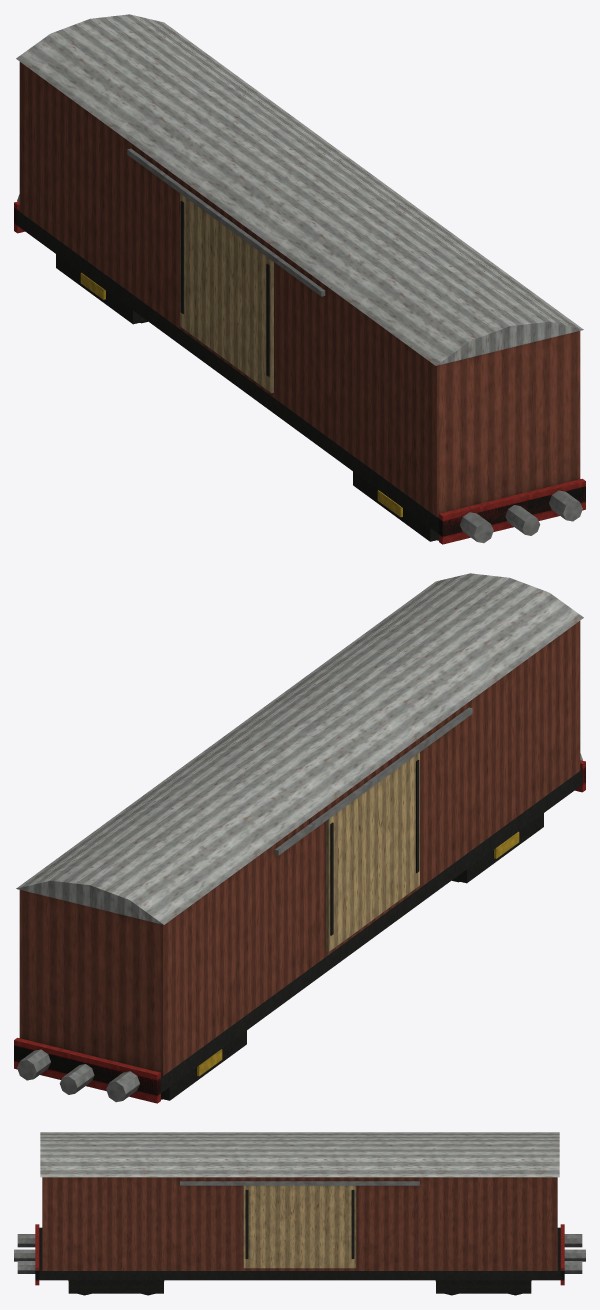
The model's file is boxcar.glb.
3 views of the same model, one above another, from view 1: azimuth 30°, elevation 25°; view 2: azimuth 150°, elevation 25°; view 3: azimuth 270°, elevation 25° (orthographic). The views are drawn at different scales.
Visible parts, largest first — view 1: boxcar; view 2: boxcar; view 3: boxcar.
Boxes of the visible parts, x1,y1,x2,y2 form: boxcar: (14,14,585,544); boxcar: (14,573,585,1103); boxcar: (14,1132,585,1295).
Size of the model in its own units: 3.06 by 4.42 by 16.2.
1 material, 1 textured.
